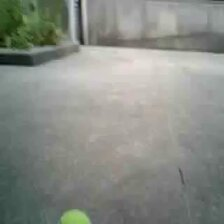tennis: (56, 208, 92, 224)
